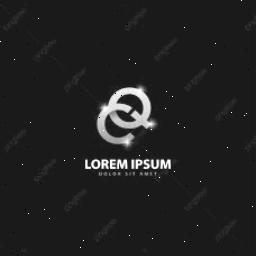q: (110, 80, 154, 130)
